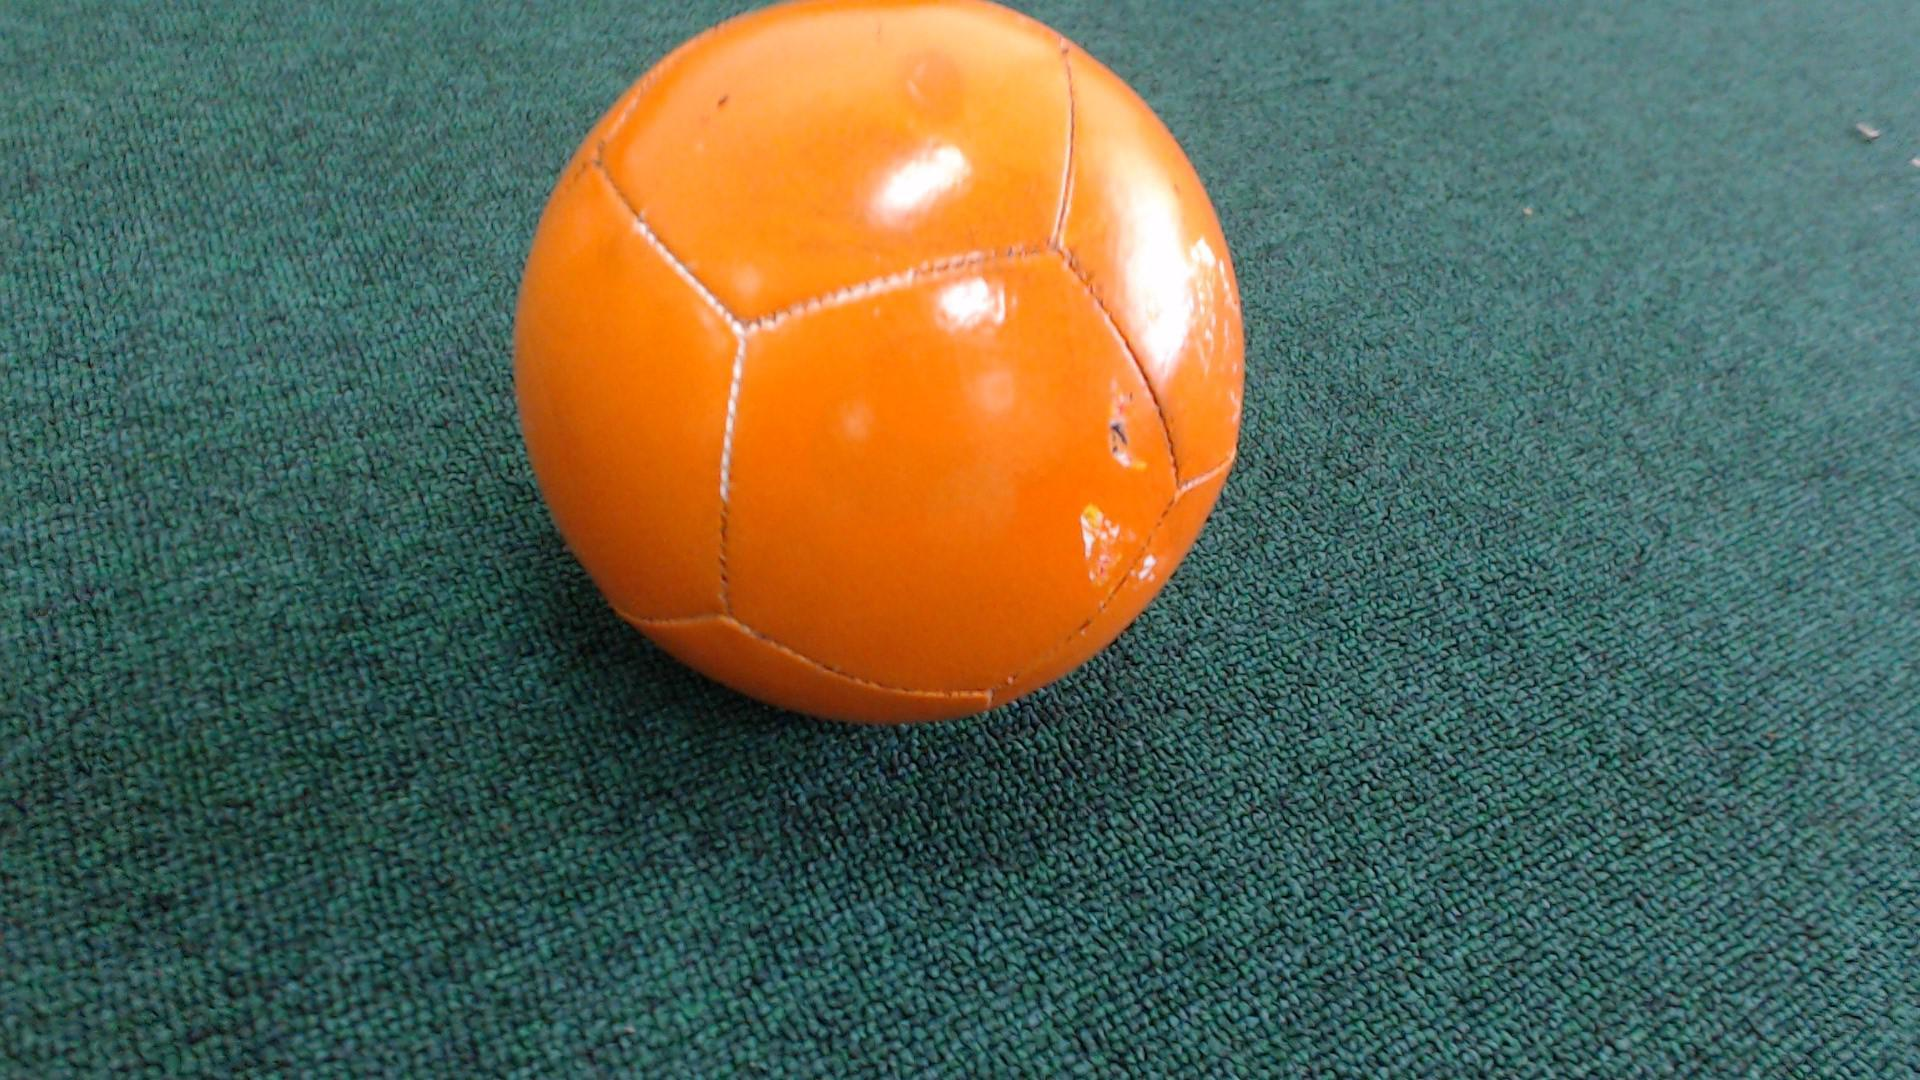bola: (498, 0, 1265, 807)
